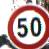Speed Limit -50-: (0, 0, 48, 48)
